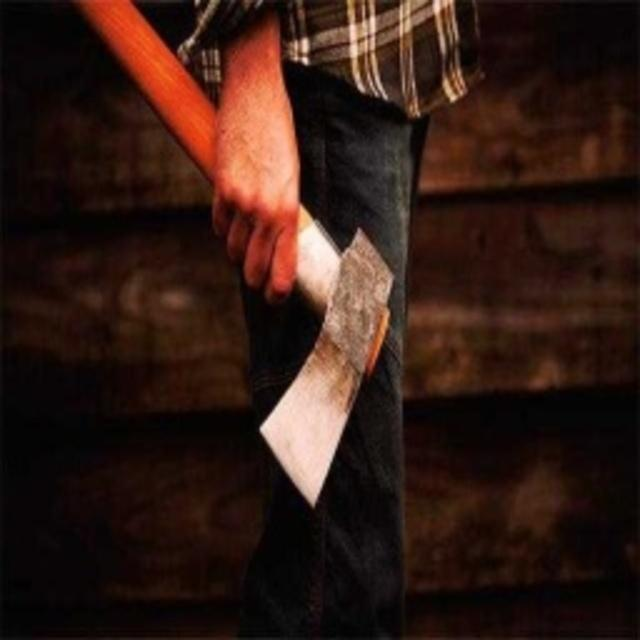ax: (58, 0, 402, 519)
